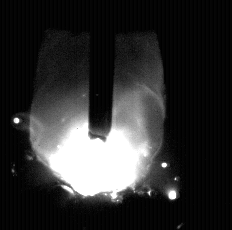arame: (89, 0, 114, 141)
poca: (30, 0, 166, 230)
